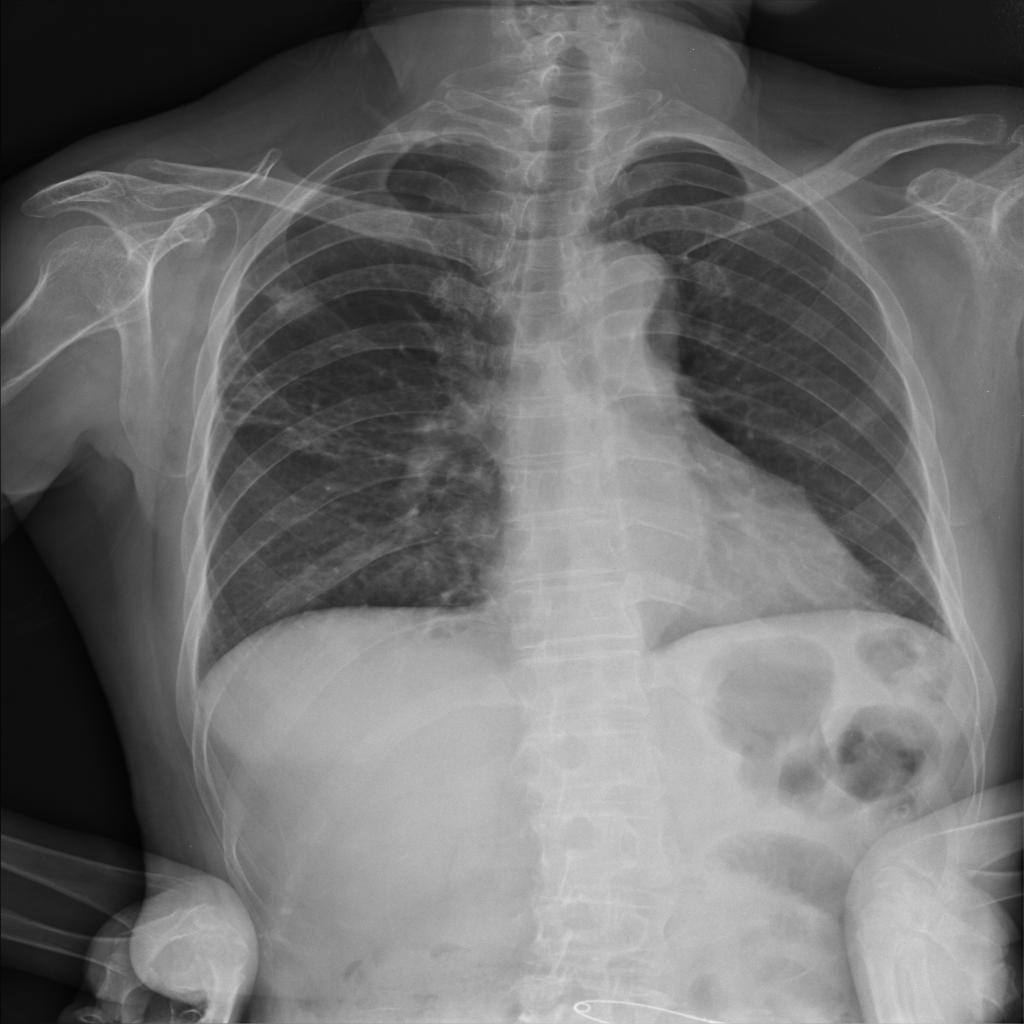Nodule: (661, 322, 685, 344)
